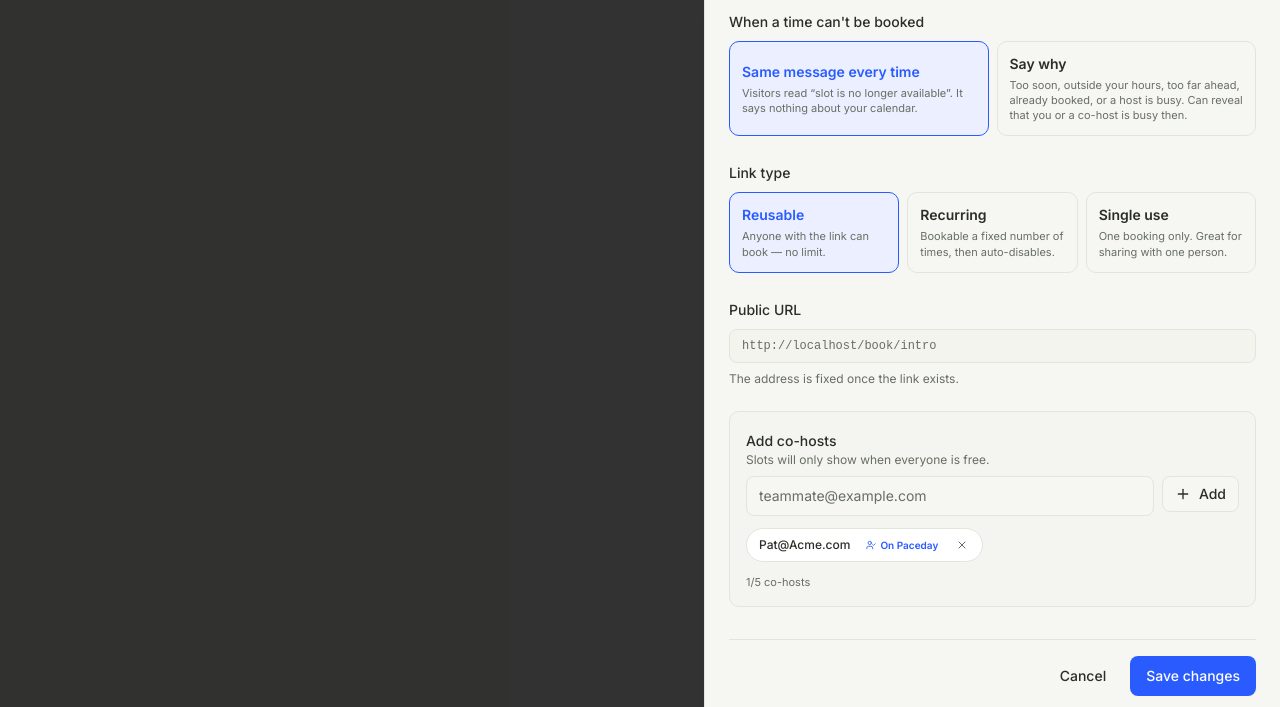
chips (contract §5.2) › AC-17: an address already a chip is refused ignoring case
The width and height of the screenshot is (1280, 707).
(page scrolled)
Type "pat@acme.com" into the field named "Co-host email" at [950, 496], box 746,476 -> 1154,516
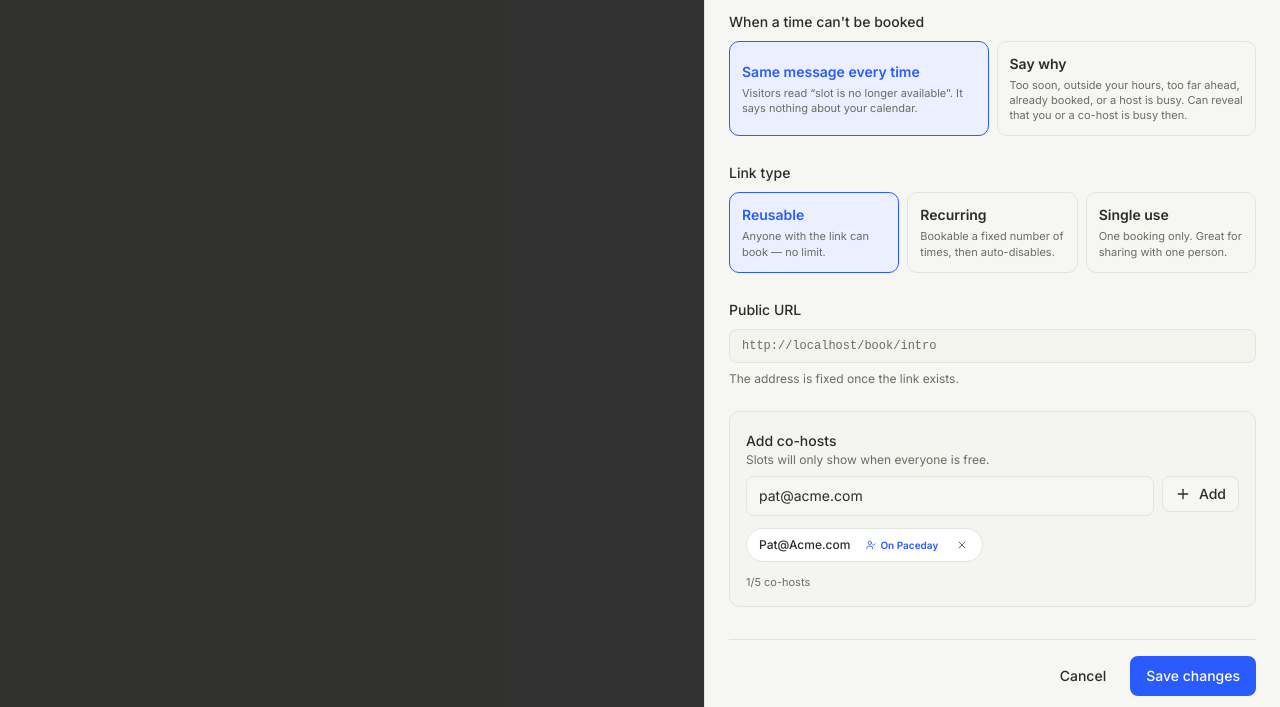
Click the button "Add" at [1200, 494], box 1162,476 -> 1239,512
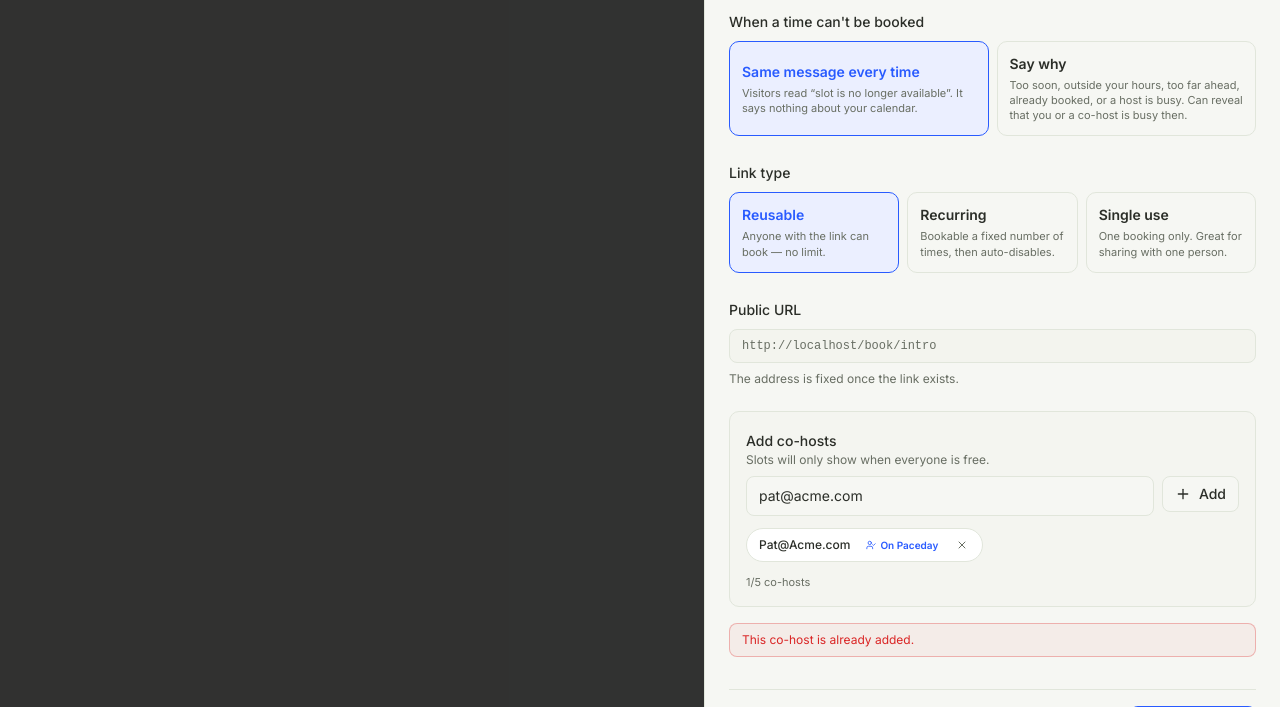
Now the message reads "This co-host is already added.", box 742,632 -> 914,647
